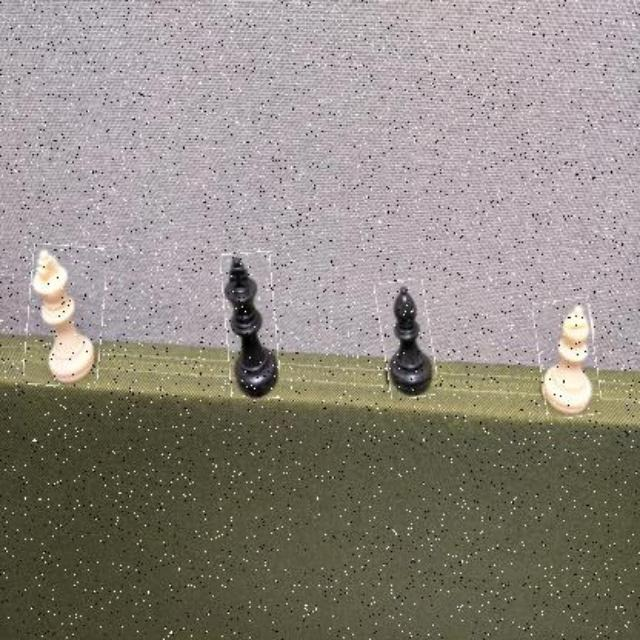black-bishop: (380, 281, 434, 399)
black-king: (223, 252, 278, 398)
white-bishop: (536, 298, 599, 418)
white-king: (26, 244, 106, 387)
